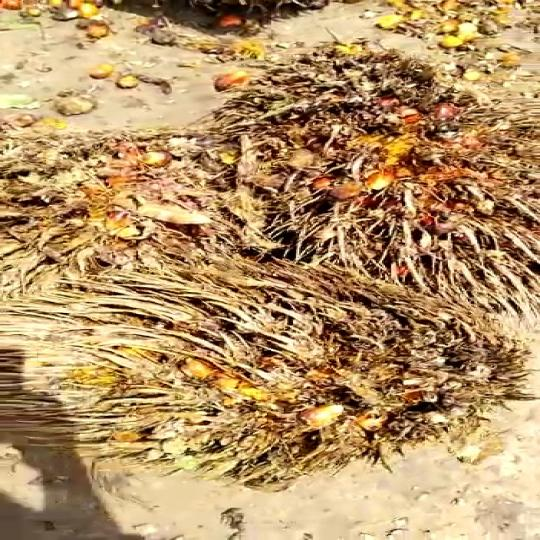terlalu masak: (0, 255, 505, 479), (200, 49, 532, 288)
